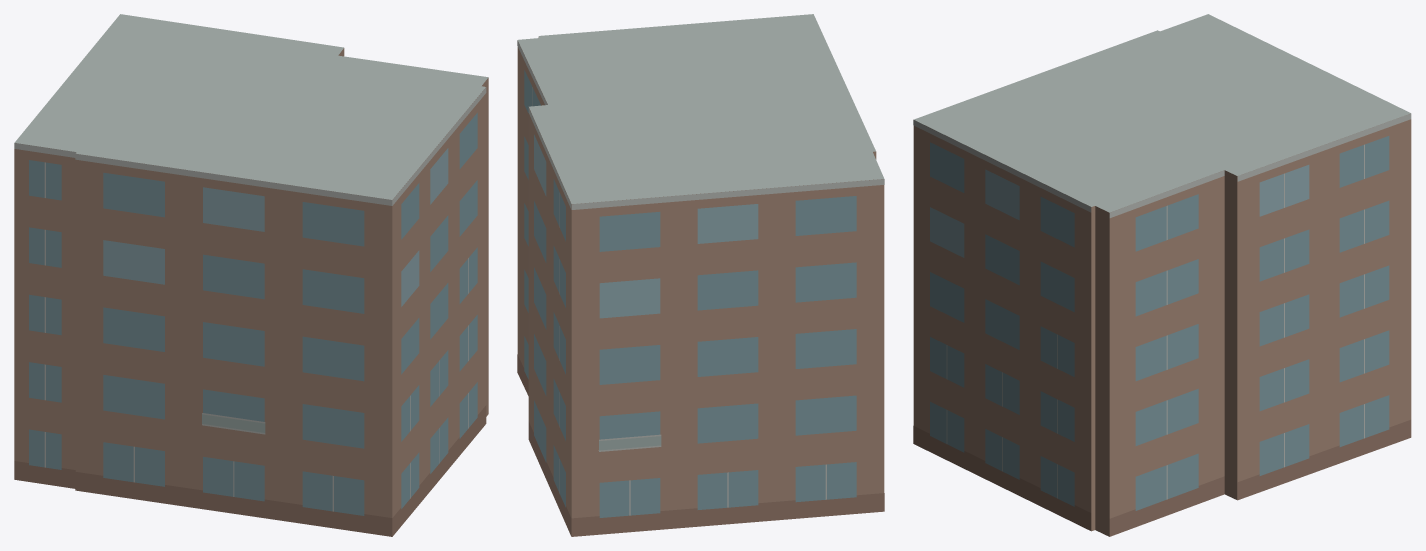
Rendered from survey-upis-32745489.glb.
The picture shows the model from 3 angles, left to right: view 1: azimuth 30°, elevation 25°; view 2: azimuth 150°, elevation 25°; view 3: azimuth 270°, elevation 25°; orthographic projection. The views are drawn at different scales.
Parts seen in each view (by area): view 1: survey-upis-32745489.tmp; view 2: survey-upis-32745489.tmp; view 3: survey-upis-32745489.tmp.
Boxes of the visible parts, x1,y1,x2,y2 form: survey-upis-32745489.tmp: (14, 14, 488, 536); survey-upis-32745489.tmp: (517, 14, 884, 536); survey-upis-32745489.tmp: (913, 14, 1411, 536).
Bounding box in the file's own units: 17.94 × 13.65 × 19.
